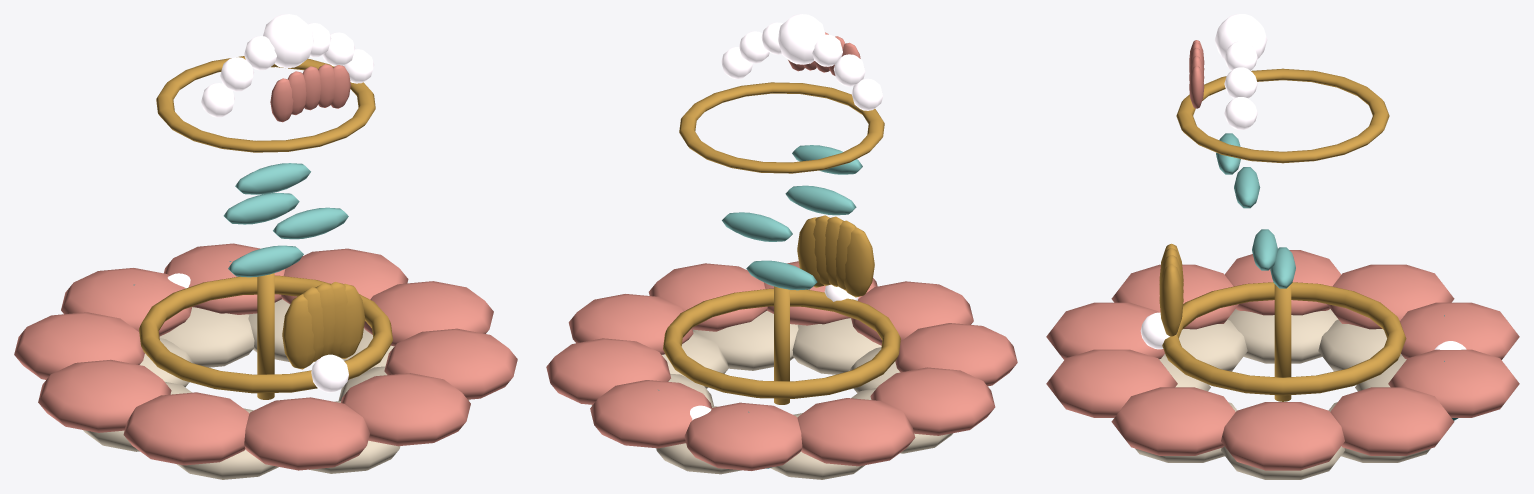
The model's file is opera_ballerina_outfit.glb.
3 views of the same model, side by side, from view 1: azimuth 30°, elevation 25°; view 2: azimuth 150°, elevation 25°; view 3: azimuth 270°, elevation 25° (orthographic). The views are drawn at different scales.
Visible parts, largest first — view 1: Band, Petal0_7, Petal0_6, Petal0_8, Petal0_5, Petal0_9, Petal0_4, Petal0_0, Petal0_3, TBase, Petal1_2, Petal0_1 (+29 smaller); view 2: Band, Petal0_3, Petal0_4, Petal0_2, Petal0_5, Petal0_1, TBase, Petal0_6, Petal0_0, Petal0_7, Petal0_9, Petal1_6 (+24 smaller); view 3: Band, Petal0_0, Petal0_1, Petal0_9, Petal0_8, Petal0_2, TBase, Petal0_3, Petal0_7, Petal0_4, Petal1_4, Petal0_6 (+20 smaller).
Part boxes in pixels (x1=…): Band: x1=139, y1=275, x2=392, y2=393; Petal0_7: x1=244, y1=397, x2=369, y2=470; Petal0_6: x1=123, y1=392, x2=249, y2=465; Petal0_8: x1=341, y1=373, x2=470, y2=446; Petal0_5: x1=38, y1=359, x2=171, y2=432; Petal0_9: x1=384, y1=328, x2=517, y2=399; Petal0_4: x1=14, y1=312, x2=144, y2=379; Petal0_0: x1=364, y1=281, x2=493, y2=346; Petal0_3: x1=61, y1=268, x2=192, y2=336; TBase: x1=156, y1=56, x2=375, y2=152; Petal1_2: x1=159, y1=307, x2=254, y2=367; Petal0_1: x1=281, y1=248, x2=408, y2=304; Band: x1=663, y1=288, x2=900, y2=398; Petal0_3: x1=684, y1=402, x2=802, y2=470; Petal0_4: x1=797, y1=398, x2=915, y2=466; Petal0_2: x1=590, y1=380, x2=711, y2=448; Petal0_5: x1=870, y1=367, x2=995, y2=435; Petal0_1: x1=546, y1=338, x2=670, y2=404; TBase: x1=679, y1=82, x2=884, y2=173; Petal0_6: x1=895, y1=323, x2=1017, y2=386; Petal0_0: x1=568, y1=294, x2=693, y2=354; Petal0_7: x1=851, y1=281, x2=973, y2=345; Petal0_9: x1=648, y1=263, x2=767, y2=331; Petal1_6: x1=792, y1=318, x2=881, y2=374; Band: x1=1162, y1=282, x2=1406, y2=395; Petal0_0: x1=1221, y1=402, x2=1344, y2=470; Petal0_1: x1=1330, y1=387, x2=1454, y2=455; Petal0_9: x1=1111, y1=387, x2=1235, y2=455; Petal0_8: x1=1046, y1=349, x2=1177, y2=417; Petal0_2: x1=1388, y1=349, x2=1519, y2=417; TBase: x1=1176, y1=68, x2=1389, y2=163; Petal0_3: x1=1400, y1=302, x2=1519, y2=359; Petal0_7: x1=1046, y1=302, x2=1164, y2=359; Petal0_4: x1=1327, y1=264, x2=1454, y2=329; Petal1_4: x1=1227, y1=309, x2=1338, y2=363; Petal0_6: x1=1111, y1=264, x2=1238, y2=329.
Size of the model in its own units: 4.05 by 3.63 by 3.95.
